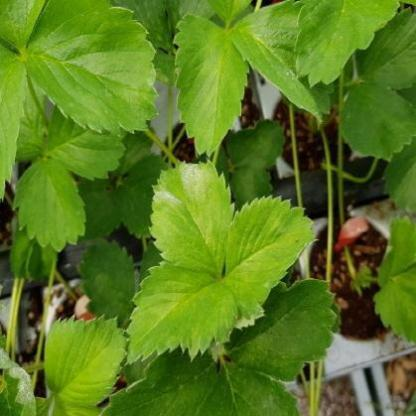Strawberry_Powdery_Mildew_Leaf: (227, 0, 336, 131), (147, 158, 235, 276), (0, 328, 38, 416)
